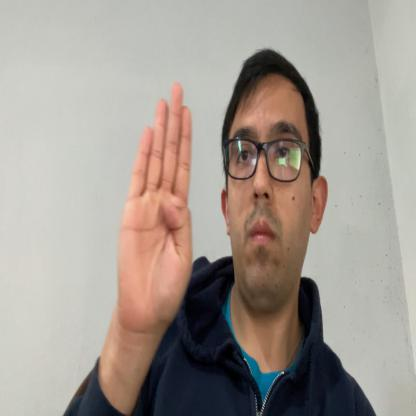B: (116, 80, 194, 336)
